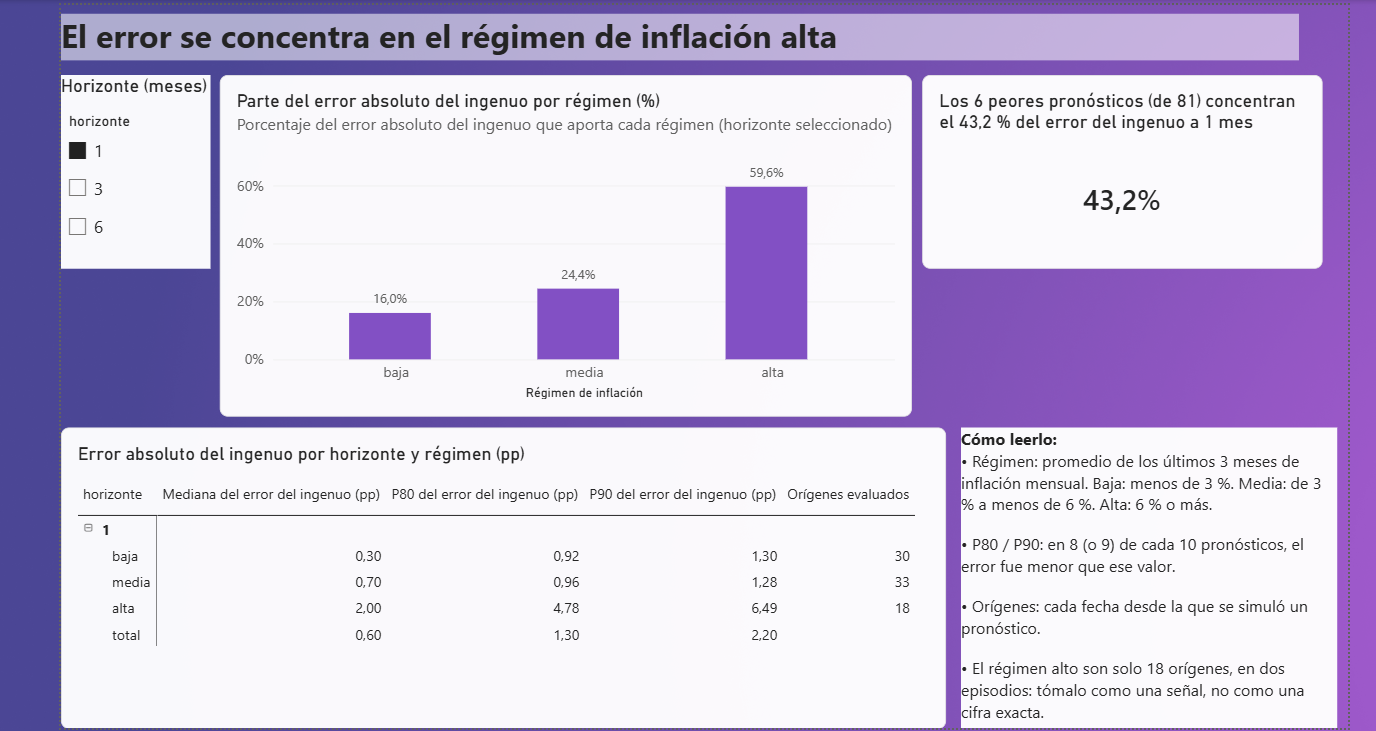

The page's visual inventory and layout, read from the dashboard file:
{"tool":"powerbi","page":{"name":"Dónde falla el ingenuo","canvas":[1280,720],"ordinal":1},"visuals":[{"type":"textbox","box":[0,8.7,1232,46],"z":0},{"type":"slicer","title":"Horizonte (meses)","fields":{"Values":["dim_horizonte.horizonte"]},"box":[0,69.7,148.5,192.6],"z":1000},{"type":"clusteredColumnChart","title":"Parte del error absoluto del ingenuo por régimen (%)","fields":{"Category":["dim_regimen.regimen_origen"],"Y":["Medidas.% del error del ingenuo"]},"box":[158,69.7,689.2,339.6],"z":2000},{"type":"card","title":"Los 6 peores pronósticos (de 81) concentran el 43,2 % del error del ingenuo a 1 mes","fields":{"Values":["Medidas.% acumulado de los 6 peores orígenes (h=1)"]},"box":[857.1,69.7,398.1,192.8],"z":3000},{"type":"pivotTable","title":"Error absoluto del ingenuo por horizonte y régimen (pp)","fields":{"Rows":["dim_horizonte.horizonte","dim_regimen.regimen_origen"],"Values":["Medidas.Mediana del error del ingenuo (pp)","Medidas.P80 del error del ingenuo (pp)","Medidas.P90 del error del ingenuo (pp)","Medidas.Orígenes evaluados"]},"box":[0,420.5,880.7,299.8],"z":4000},{"type":"textbox","box":[895.7,420.5,374.4,299.8],"z":5000}]}

Visuals, with their boxes in screenshot pixels (x1, y1, x2, y2):
textbox: l=57, t=12, r=1291, b=58
"Horizonte (meses)" slicer: l=57, t=73, r=206, b=266
"Parte del error absoluto del ingenuo por régimen (%)" clusteredColumnChart: l=216, t=73, r=906, b=413
"Los 6 peores pronósticos (de 81) concentran el 43,2 % del error del ingenuo a 1 mes" card: l=915, t=73, r=1314, b=266
"Error absoluto del ingenuo por horizonte y régimen (pp)" pivotTable: l=57, t=425, r=939, b=725
textbox: l=954, t=425, r=1329, b=725
